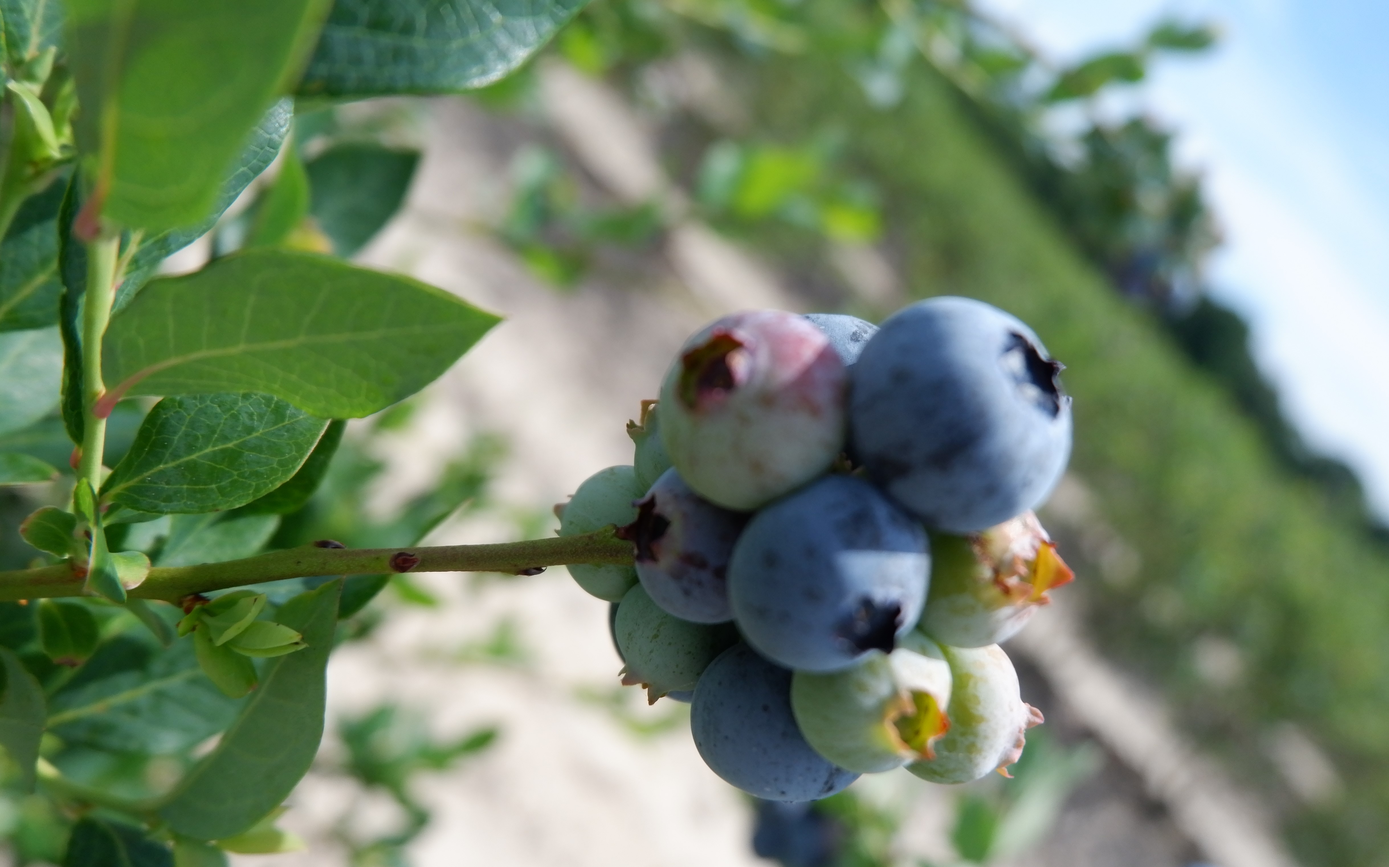Immature: (662, 314, 847, 506), (795, 629, 954, 774), (923, 518, 1066, 643), (917, 648, 1039, 783), (614, 586, 731, 704), (555, 466, 646, 604), (628, 398, 671, 493)
Mature: (853, 304, 1070, 530), (734, 478, 931, 670), (693, 647, 858, 801), (619, 466, 755, 623), (808, 315, 875, 376)
